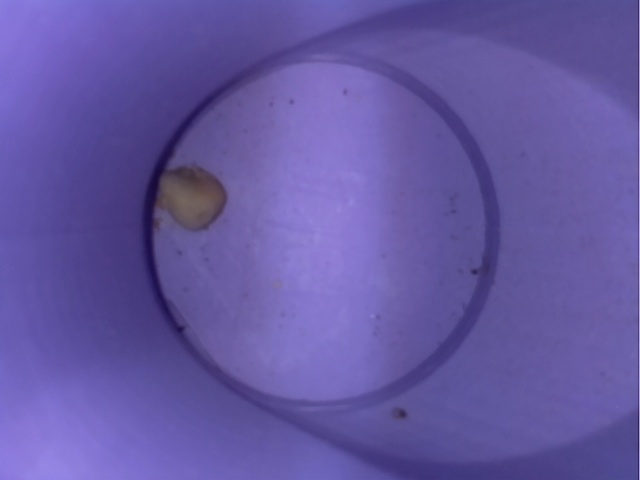ecorce: (143, 152, 242, 241)
